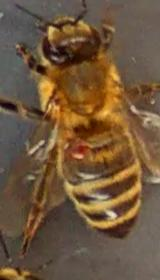varroa_mite: (56, 138, 93, 162)
